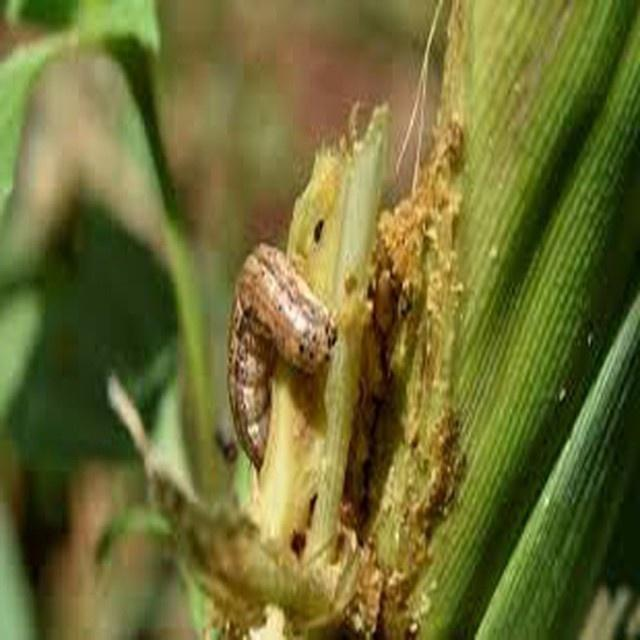gusano_cogollero: (226, 246, 338, 466)
